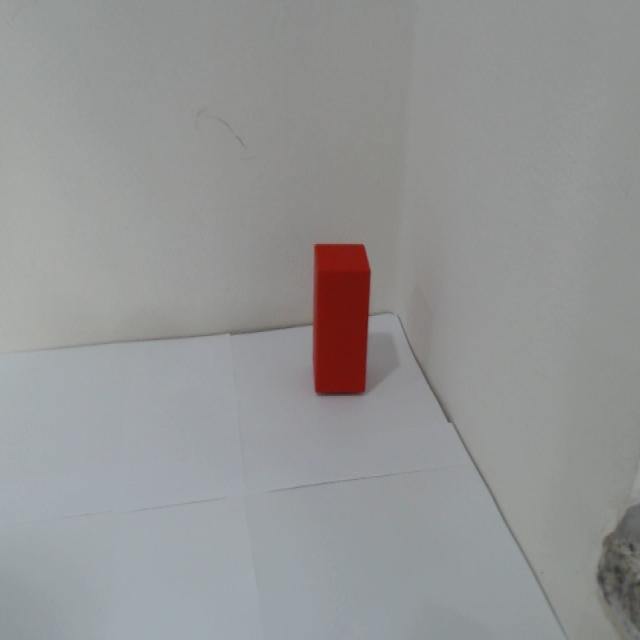cube: (307, 241, 374, 396)
